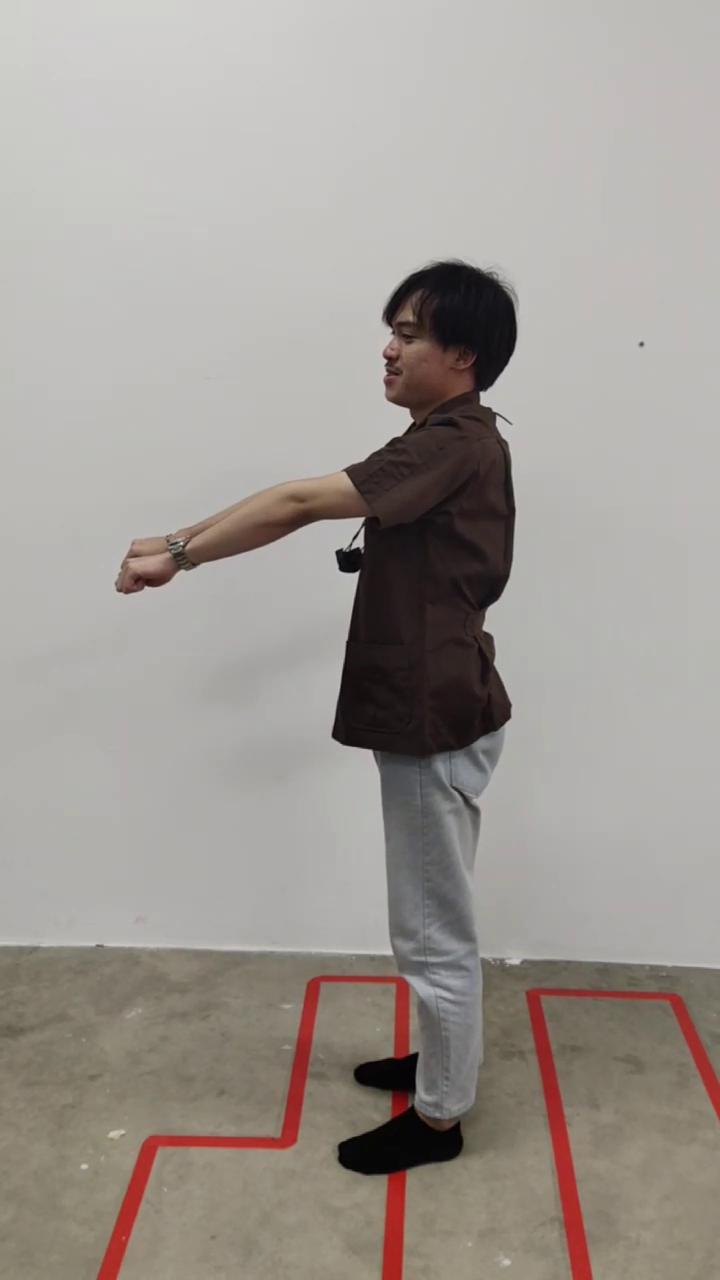squat up: (115, 260, 518, 1175)
